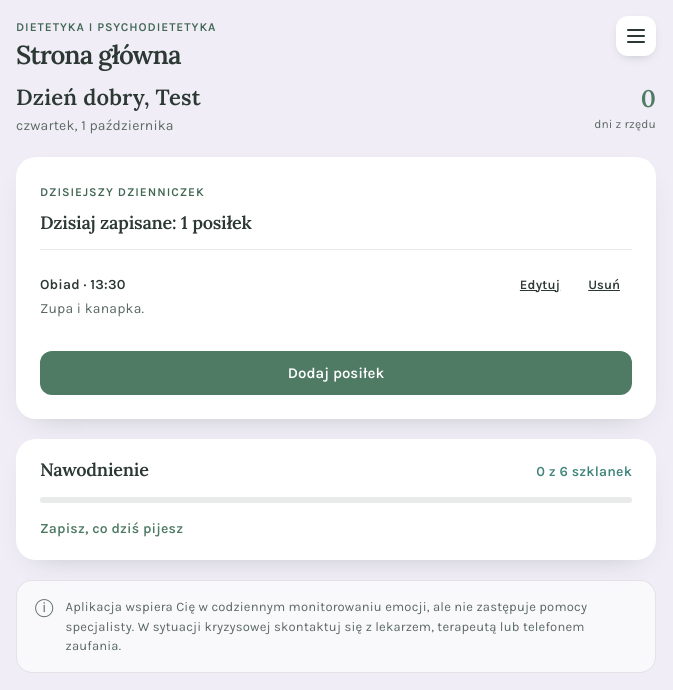
Test: today's meals are on the screen and can be corrected › asks twice before deleting, and does nothing on the first tap
Click the button "Usuń".
click(604, 284)  # box [576,262,632,306]
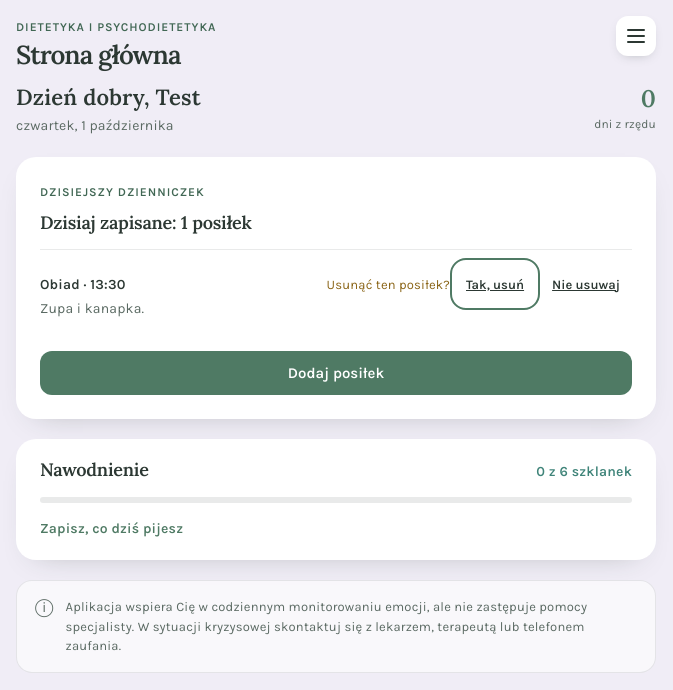
Result: the text "Usunąć ten posiłek?" is shown at [327,273,450,296]
